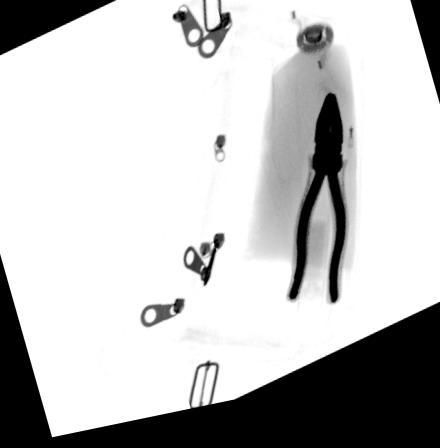Pliers: (284, 104, 349, 320)
